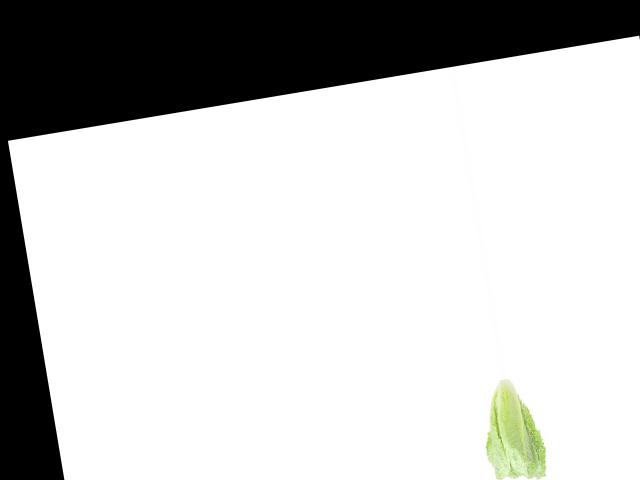lettuce: (467, 375, 553, 480)
